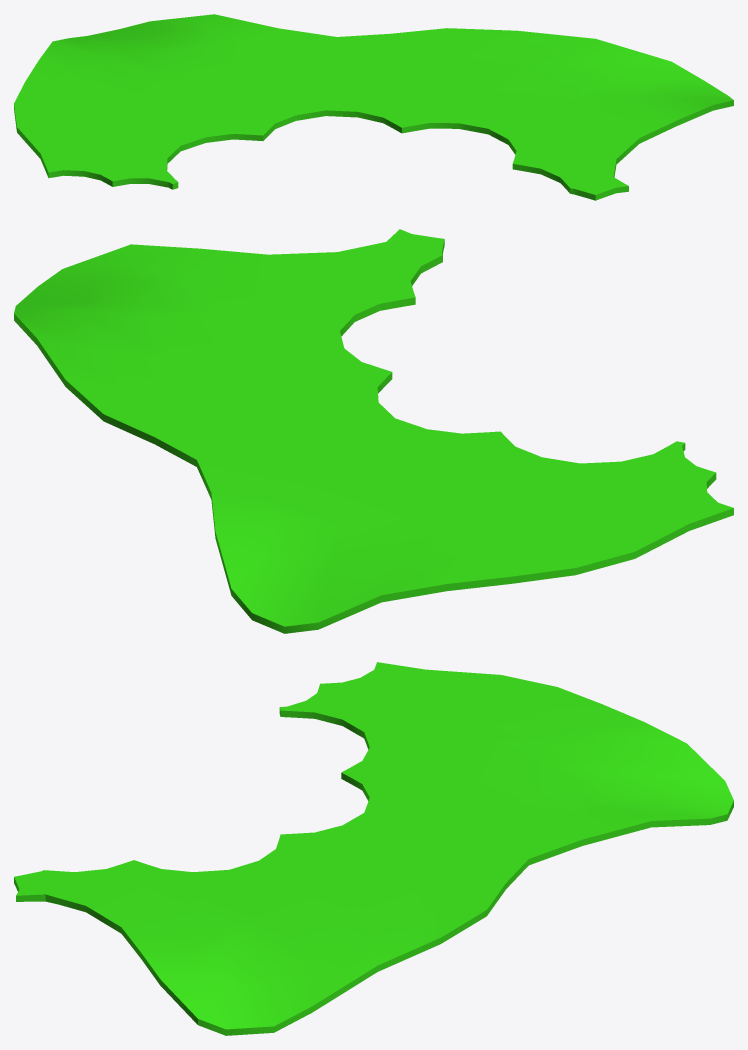
The model's file is salad_5.fbx.
3 views of the same model, one above another, from view 1: azimuth 30°, elevation 25°; view 2: azimuth 150°, elevation 25°; view 3: azimuth 270°, elevation 25° (orthographic). The views are drawn at different scales.
Parts seen in each view (by area): view 1: Salad_0.005; view 2: Salad_0.005; view 3: Salad_0.005.
Part boxes in pixels (left/top/right/bottom): Salad_0.005: left=14, top=14, right=733, bottom=200; Salad_0.005: left=14, top=229, right=733, bottom=633; Salad_0.005: left=14, top=662, right=733, bottom=1035.
Bounding box in the file's own units: 264 × 13.1 × 236.
